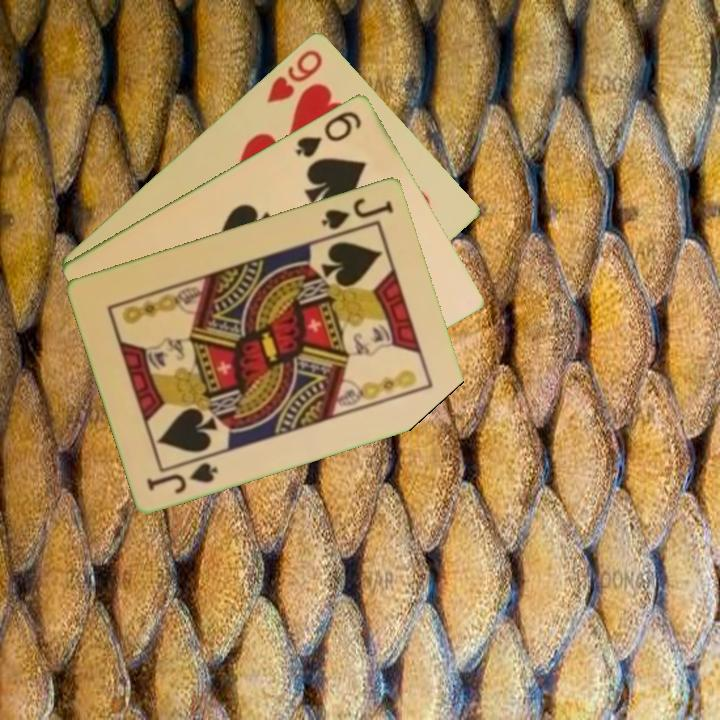6s: (292, 106, 365, 160)
9h: (262, 45, 326, 106)
Js: (318, 193, 397, 232), (143, 458, 222, 496)
